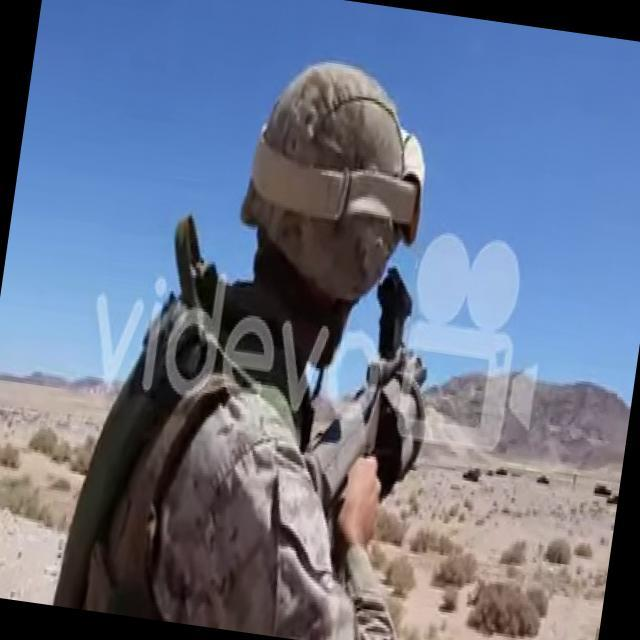rocket: (292, 264, 448, 526)
